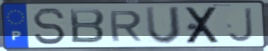B: (68, 8, 107, 45)
J: (227, 6, 256, 44)
R: (108, 10, 145, 43)
S: (31, 7, 68, 46)
U: (144, 6, 182, 46)
X: (184, 6, 222, 46)
